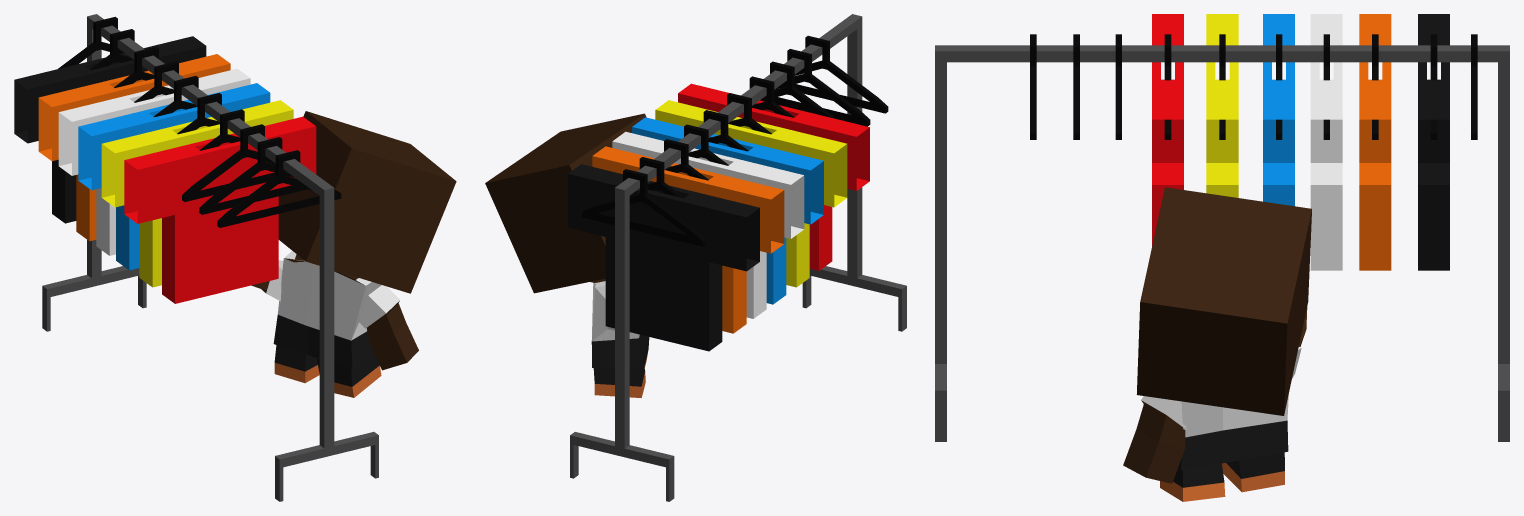
File: Clothing Rail.gltf
The picture shows the model from 3 angles, left to right: view 1: azimuth 30°, elevation 25°; view 2: azimuth 150°, elevation 25°; view 3: azimuth 270°, elevation 25°; orthographic projection. The views are drawn at different scales.
Visible parts, largest first — view 1: Character, T-Shirt.001, Clothing Rail, T-Shirt.005, T-Shirt, T-Shirt.002, T-Shirt.004, T-Shirt.003, Hanger.008, Hanger.007, Hanger.006, Hanger.009 (+6 smaller); view 2: T-Shirt.005, Character, Clothing Rail, T-Shirt.004, T-Shirt, T-Shirt.001, T-Shirt.003, T-Shirt.002, Hanger.009, Hanger.007, Hanger.008, Hanger.006 (+6 smaller); view 3: Character, Clothing Rail, T-Shirt.004, T-Shirt.003, T-Shirt.005, T-Shirt.002, T-Shirt, T-Shirt.001, Hanger.006, Hanger.007, Hanger.008, Hanger.009.
Boxes of the visible parts, left/top/right/bottom form: Character: left=251, top=111, right=456, bottom=397; T-Shirt.001: left=124, top=116, right=316, bottom=303; Clothing Rail: left=42, top=14, right=378, bottom=501; T-Shirt.005: left=14, top=36, right=206, bottom=223; T-Shirt: left=101, top=100, right=293, bottom=287; T-Shirt.002: left=78, top=83, right=270, bottom=270; T-Shirt.004: left=38, top=54, right=230, bottom=241; T-Shirt.003: left=58, top=68, right=250, bottom=255; Hanger.008: left=217, top=150, right=341, bottom=227; Hanger.007: left=199, top=137, right=306, bottom=214; Hanger.006: left=182, top=124, right=289, bottom=201; Hanger.009: left=58, top=16, right=123, bottom=68; T-Shirt.005: left=568, top=164, right=759, bottom=351; Character: left=485, top=113, right=649, bottom=397; Clothing Rail: left=570, top=14, right=906, bottom=501; T-Shirt.004: left=592, top=146, right=784, bottom=333; T-Shirt: left=655, top=100, right=847, bottom=287; T-Shirt.001: left=678, top=83, right=869, bottom=270; T-Shirt.003: left=612, top=131, right=804, bottom=318; T-Shirt.002: left=632, top=117, right=823, bottom=304; Hanger.009: left=582, top=169, right=705, bottom=246; Hanger.007: left=763, top=49, right=870, bottom=126; Hanger.008: left=794, top=35, right=888, bottom=113; Hanger.006: left=760, top=61, right=836, bottom=118; Character: left=1123, top=187, right=1311, bottom=501; Clothing Rail: left=935, top=45, right=1509, bottom=441; T-Shirt.004: left=1359, top=14, right=1391, bottom=270; T-Shirt.003: left=1310, top=14, right=1342, bottom=270; T-Shirt.005: left=1418, top=14, right=1449, bottom=270; T-Shirt.002: left=1263, top=14, right=1294, bottom=206; T-Shirt: left=1206, top=14, right=1238, bottom=197; T-Shirt.001: left=1152, top=14, right=1183, bottom=245; Hanger.006: left=1115, top=34, right=1121, bottom=139; Hanger.007: left=1073, top=34, right=1079, bottom=139; Hanger.008: left=1030, top=34, right=1036, bottom=139; Hanger.009: left=1471, top=34, right=1477, bottom=139.
Bounding box in the file's own units: 2.62 × 2.39 × 3.28.
